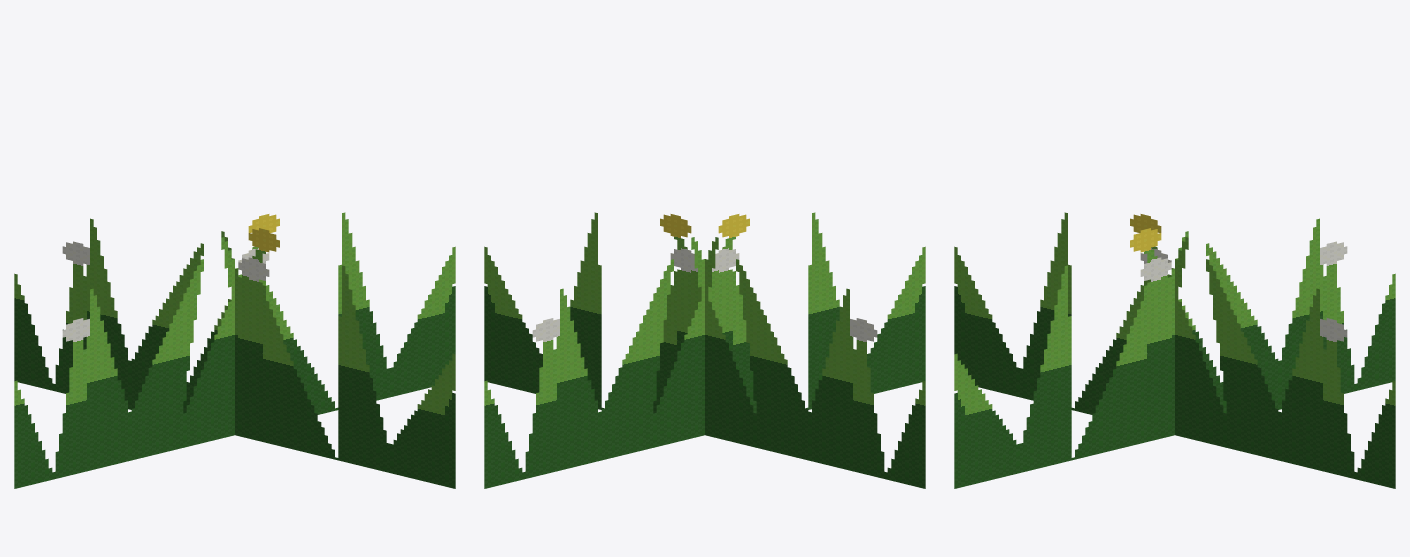
Rendered from grama_baixa_tufo.glb.
The picture shows the model from 3 angles, left to right: view 1: azimuth 30°, elevation 25°; view 2: azimuth 150°, elevation 25°; view 3: azimuth 270°, elevation 25°; orthographic projection.
Parts seen in each view (by area): view 1: grama_baixa_tufo; view 2: grama_baixa_tufo; view 3: grama_baixa_tufo.
Boxes of the visible parts, left/top/right/bottom form: grama_baixa_tufo: left=14, top=212, right=455, bottom=488; grama_baixa_tufo: left=484, top=212, right=925, bottom=488; grama_baixa_tufo: left=954, top=212, right=1395, bottom=488.
Size of the model in its own units: 0.56 by 0.38 by 0.485.
Materials: 1 (1 with a texture image).
